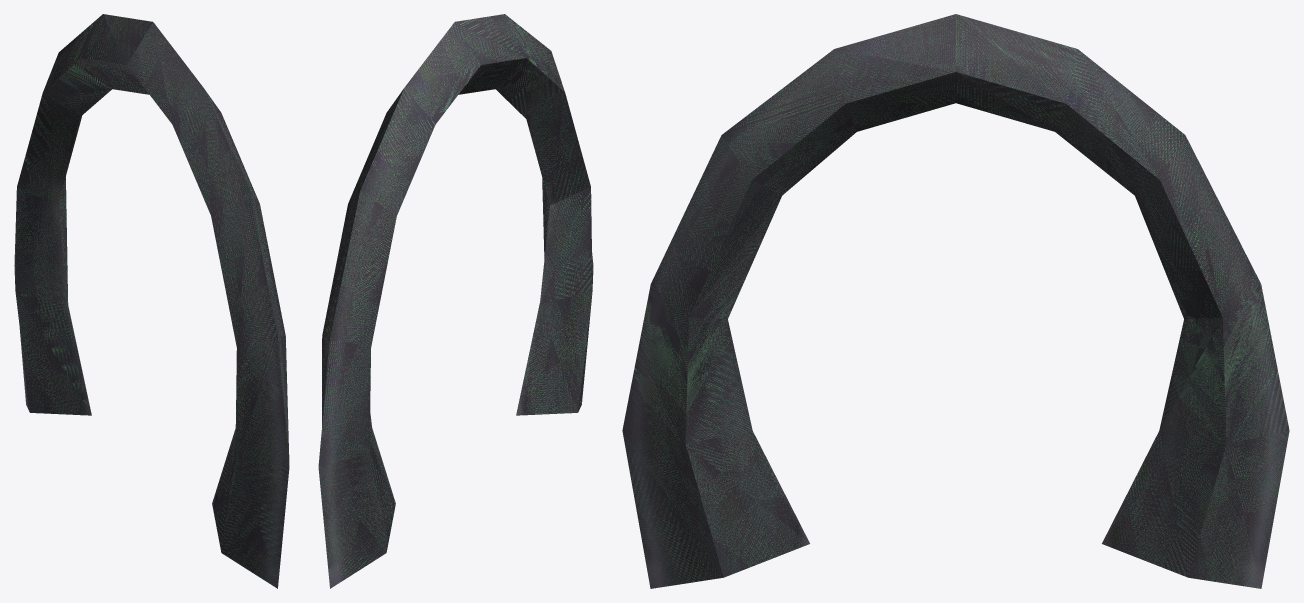
File: original-3.obj
The picture shows the model from 3 angles, left to right: view 1: azimuth 30°, elevation 25°; view 2: azimuth 150°, elevation 25°; view 3: azimuth 270°, elevation 25°; orthographic projection. The views are drawn at different scales.
Visible parts, largest first — view 1: #ID31; view 2: #ID31; view 3: #ID31.
Part boxes in pixels (box(x1,y1,x2,y2)): #ID31: box(14, 14, 289, 588); #ID31: box(318, 14, 593, 588); #ID31: box(622, 14, 1289, 588).
Size of the model in its own units: 0.0133 by 0.12 by 0.1261.
